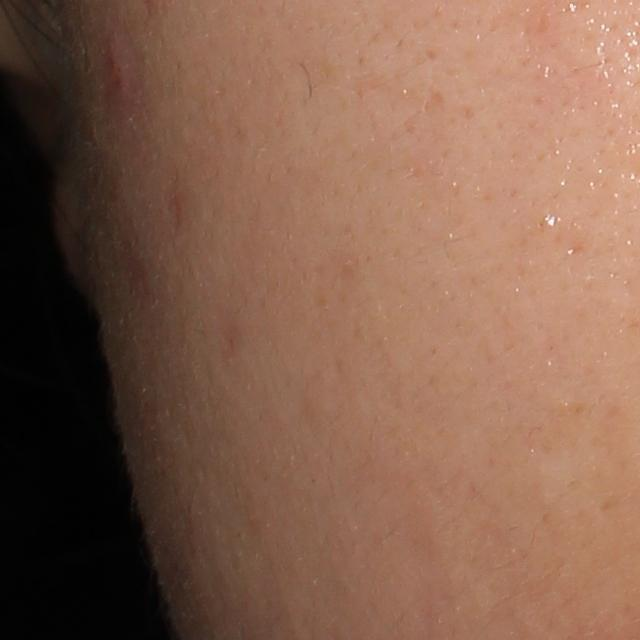papule: (103, 41, 134, 100)
